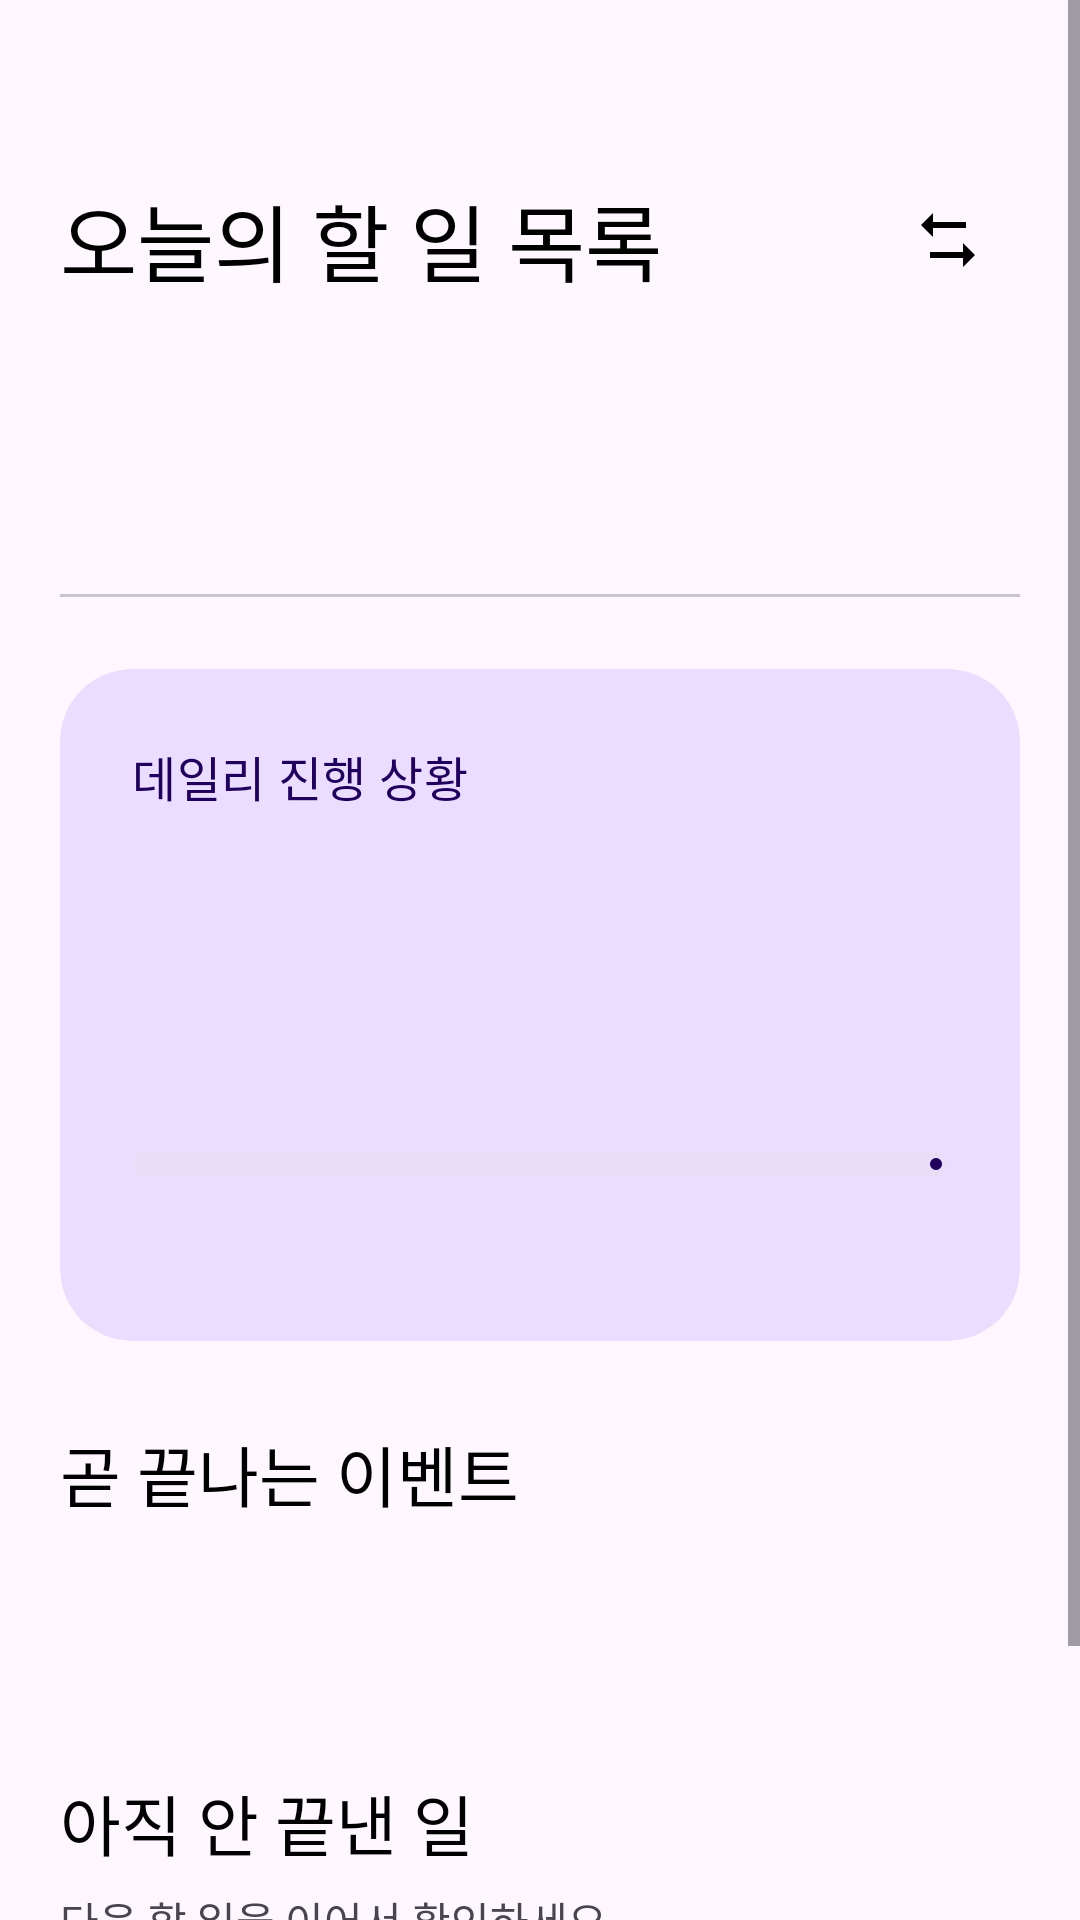

Point at icon controls on the screen. Image size 1080x1920, points as point (x, y).
개인 계획 모드로 전환: point (948, 240)
